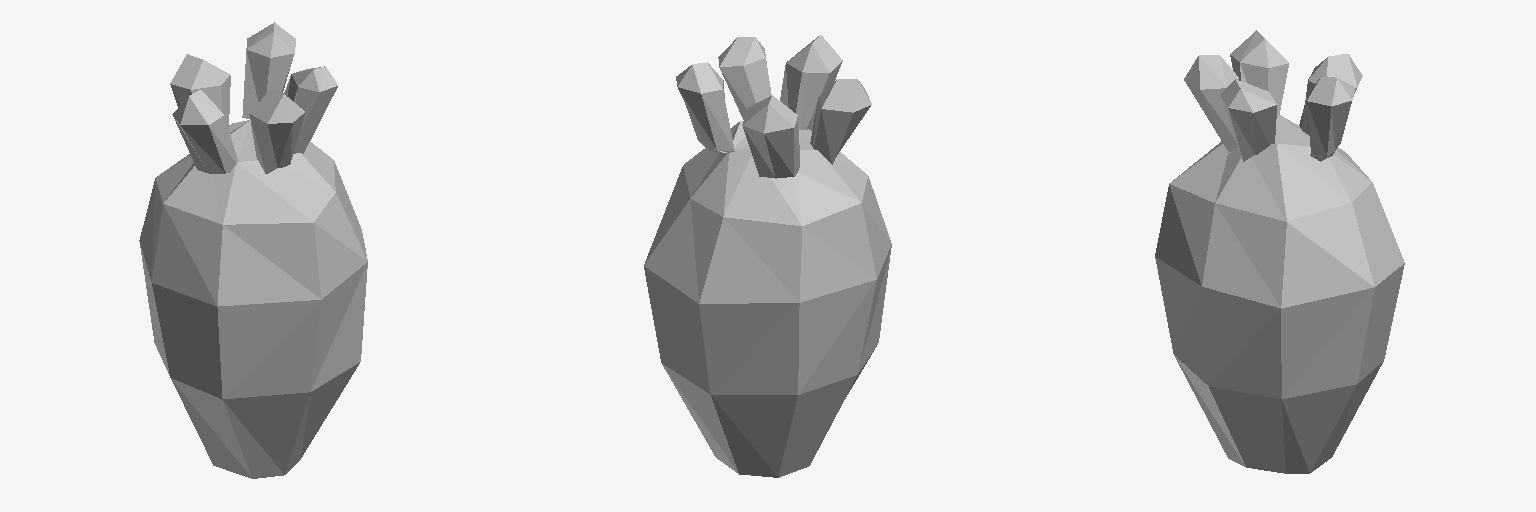
The model's file is Sponge_A_02_LOD2.obj.
The picture shows the model from 3 angles: view 1: azimuth 30°, elevation 25°; view 2: azimuth 150°, elevation 25°; view 3: azimuth 270°, elevation 25°; orthographic projection.
Parts seen in each view (by area): view 1: Sponge_A_02_LOD2_Cylinder.424; view 2: Sponge_A_02_LOD2_Cylinder.424; view 3: Sponge_A_02_LOD2_Cylinder.424.
Boxes of the visible parts, <box> form: Sponge_A_02_LOD2_Cylinder.424: <box>139,22,367,478</box>; Sponge_A_02_LOD2_Cylinder.424: <box>644,35,891,477</box>; Sponge_A_02_LOD2_Cylinder.424: <box>1155,30,1404,473</box>.
Size of the model in its own units: 2.5 by 4.5 by 2.53.